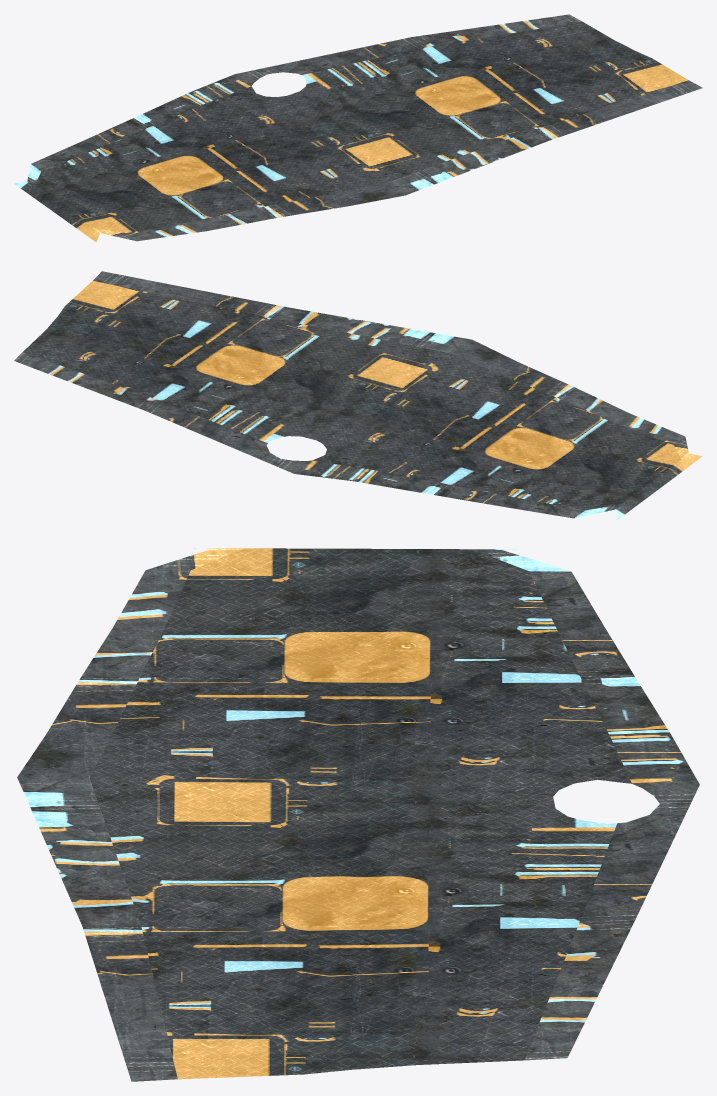
Rendered from SM_BigShip_HangarFlor.fbx.
The picture shows the model from 3 angles, top to bottom: view 1: azimuth 30°, elevation 25°; view 2: azimuth 150°, elevation 25°; view 3: azimuth 270°, elevation 25°; orthographic projection. The views are drawn at different scales.
Visible parts, largest first — view 1: SM_BigShip_HangarFlor_LOD0; view 2: SM_BigShip_HangarFlor_LOD0; view 3: SM_BigShip_HangarFlor_LOD0.
Part boxes in pixels (<box>): SM_BigShip_HangarFlor_LOD0: <box>14,14,702,242</box>; SM_BigShip_HangarFlor_LOD0: <box>14,271,702,519</box>; SM_BigShip_HangarFlor_LOD0: <box>17,548,699,1081</box>.
Bounding box in the file's own units: 7435 × 270 × 3716.
2 materials, 2 textured.
